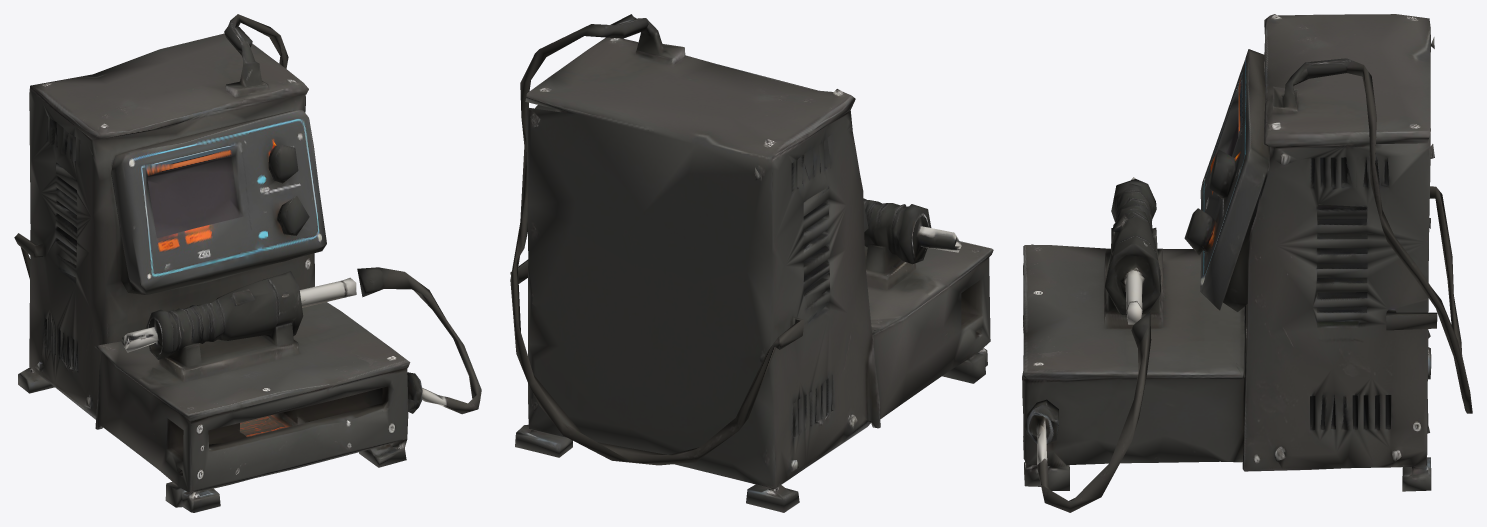
Rendered from 18_hot_air_station.glb.
3 views of the same model, side by side, from view 1: azimuth 30°, elevation 25°; view 2: azimuth 150°, elevation 25°; view 3: azimuth 270°, elevation 25° (orthographic). The views are drawn at different scales.
Parts seen in each view (by area): view 1: tripo_node_dc664096-8d52-4c65-b868-ac72f30536e8; view 2: tripo_node_dc664096-8d52-4c65-b868-ac72f30536e8; view 3: tripo_node_dc664096-8d52-4c65-b868-ac72f30536e8.
Part boxes in pixels (box(x1,y1,x2,y2)): tripo_node_dc664096-8d52-4c65-b868-ac72f30536e8: box(14, 14, 481, 512); tripo_node_dc664096-8d52-4c65-b868-ac72f30536e8: box(510, 14, 993, 512); tripo_node_dc664096-8d52-4c65-b868-ac72f30536e8: box(1022, 14, 1472, 512).
Size of the model in its own units: 0.22 by 0.22 by 0.22.
Materials: 1 (1 with a texture image).
